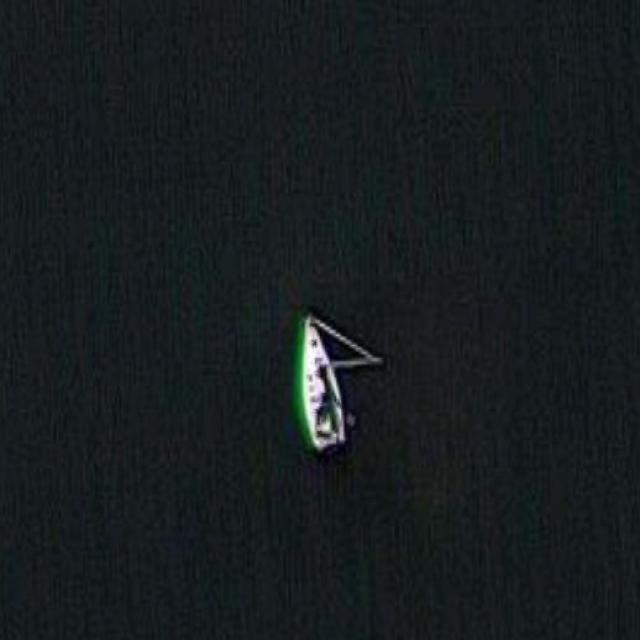ship: (292, 312, 386, 456)
